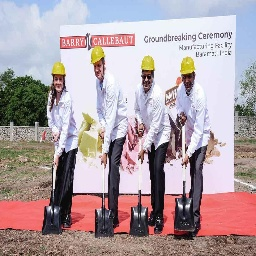helmet: (176, 54, 197, 79), (50, 59, 67, 83), (88, 45, 106, 67), (139, 54, 156, 76)
no-vest: (91, 78, 128, 147), (177, 82, 209, 150), (48, 90, 80, 156), (140, 84, 169, 154)
person: (88, 42, 128, 226), (45, 57, 82, 241), (134, 54, 171, 233), (175, 55, 209, 236)
